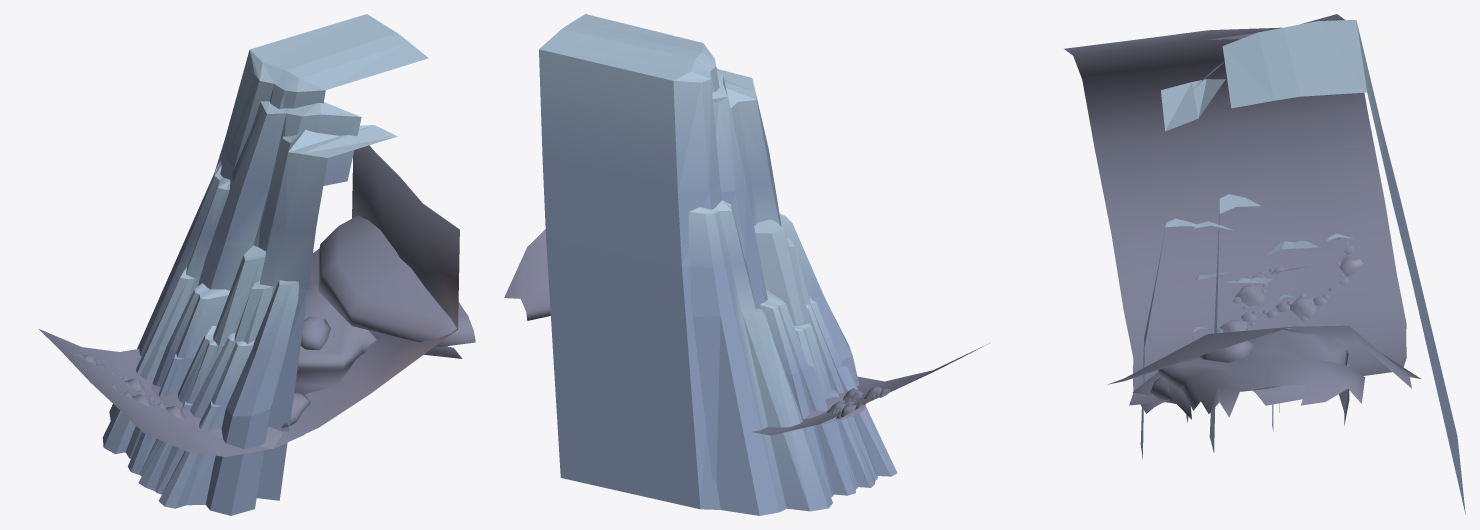
Rendered from Arctic_Luge_TunnelObstacle_Left_Mid_C.glb.
The picture shows the model from 3 angles, left to right: view 1: azimuth 30°, elevation 25°; view 2: azimuth 150°, elevation 25°; view 3: azimuth 270°, elevation 25°; orthographic projection. The views are drawn at different scales.
Visible parts, largest first — view 1: Arctic_Luge_TunnelObstacle_Left_Mid_C, Arctic_Narrows_Left_IceWall_A01, Arctic_Narrows_Left_IceWall_A01_Right, Arctic_Narrows_Left_IceWall_A01_Left, Arctic_Narrows_Left_IceWall_A01_Mid; view 2: Arctic_Narrows_Left_IceWall_A01, Arctic_Narrows_Left_IceWall_A01_Left, Arctic_Narrows_Left_IceWall_A01_Right, Arctic_Narrows_Left_IceWall_A01_Mid, Arctic_Luge_TunnelObstacle_Left_Mid_C; view 3: Arctic_Luge_TunnelObstacle_Left_Mid_C, Arctic_Narrows_Left_IceWall_A01, Arctic_Narrows_Left_IceWall_A01_Right.
Part boxes in pixels (x1,y1,x2,y2): Arctic_Luge_TunnelObstacle_Left_Mid_C: (38, 145, 475, 456); Arctic_Narrows_Left_IceWall_A01: (198, 14, 428, 500); Arctic_Narrows_Left_IceWall_A01_Right: (138, 280, 298, 515); Arctic_Narrows_Left_IceWall_A01_Left: (102, 161, 230, 454); Arctic_Narrows_Left_IceWall_A01_Mid: (125, 283, 229, 474); Arctic_Narrows_Left_IceWall_A01: (539, 14, 810, 509); Arctic_Narrows_Left_IceWall_A01_Left: (688, 200, 832, 515); Arctic_Narrows_Left_IceWall_A01_Right: (779, 213, 897, 489); Arctic_Narrows_Left_IceWall_A01_Mid: (760, 290, 855, 497); Arctic_Luge_TunnelObstacle_Left_Mid_C: (504, 229, 989, 435); Arctic_Luge_TunnelObstacle_Left_Mid_C: (1064, 14, 1420, 425); Arctic_Narrows_Left_IceWall_A01: (1161, 20, 1465, 514); Arctic_Narrows_Left_IceWall_A01_Right: (1140, 218, 1307, 459).
Size of what is drawn, in the model's own units: 4.92 by 4.9 by 3.66.
